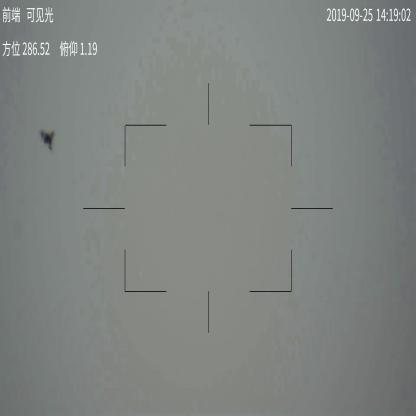uav: (38, 127, 56, 151)
